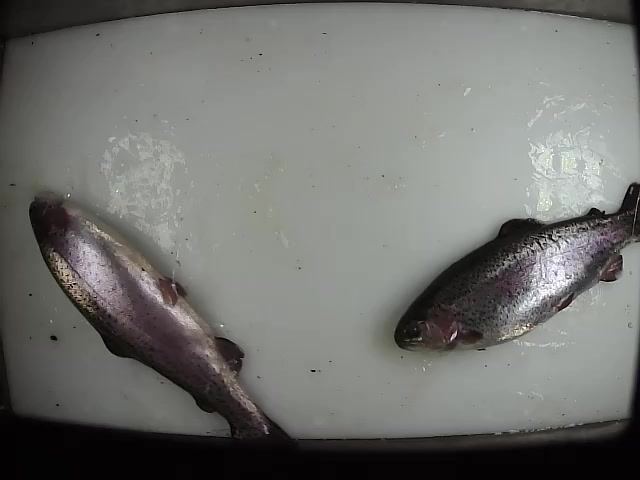fish: (28, 194, 298, 446), (395, 181, 640, 354)
